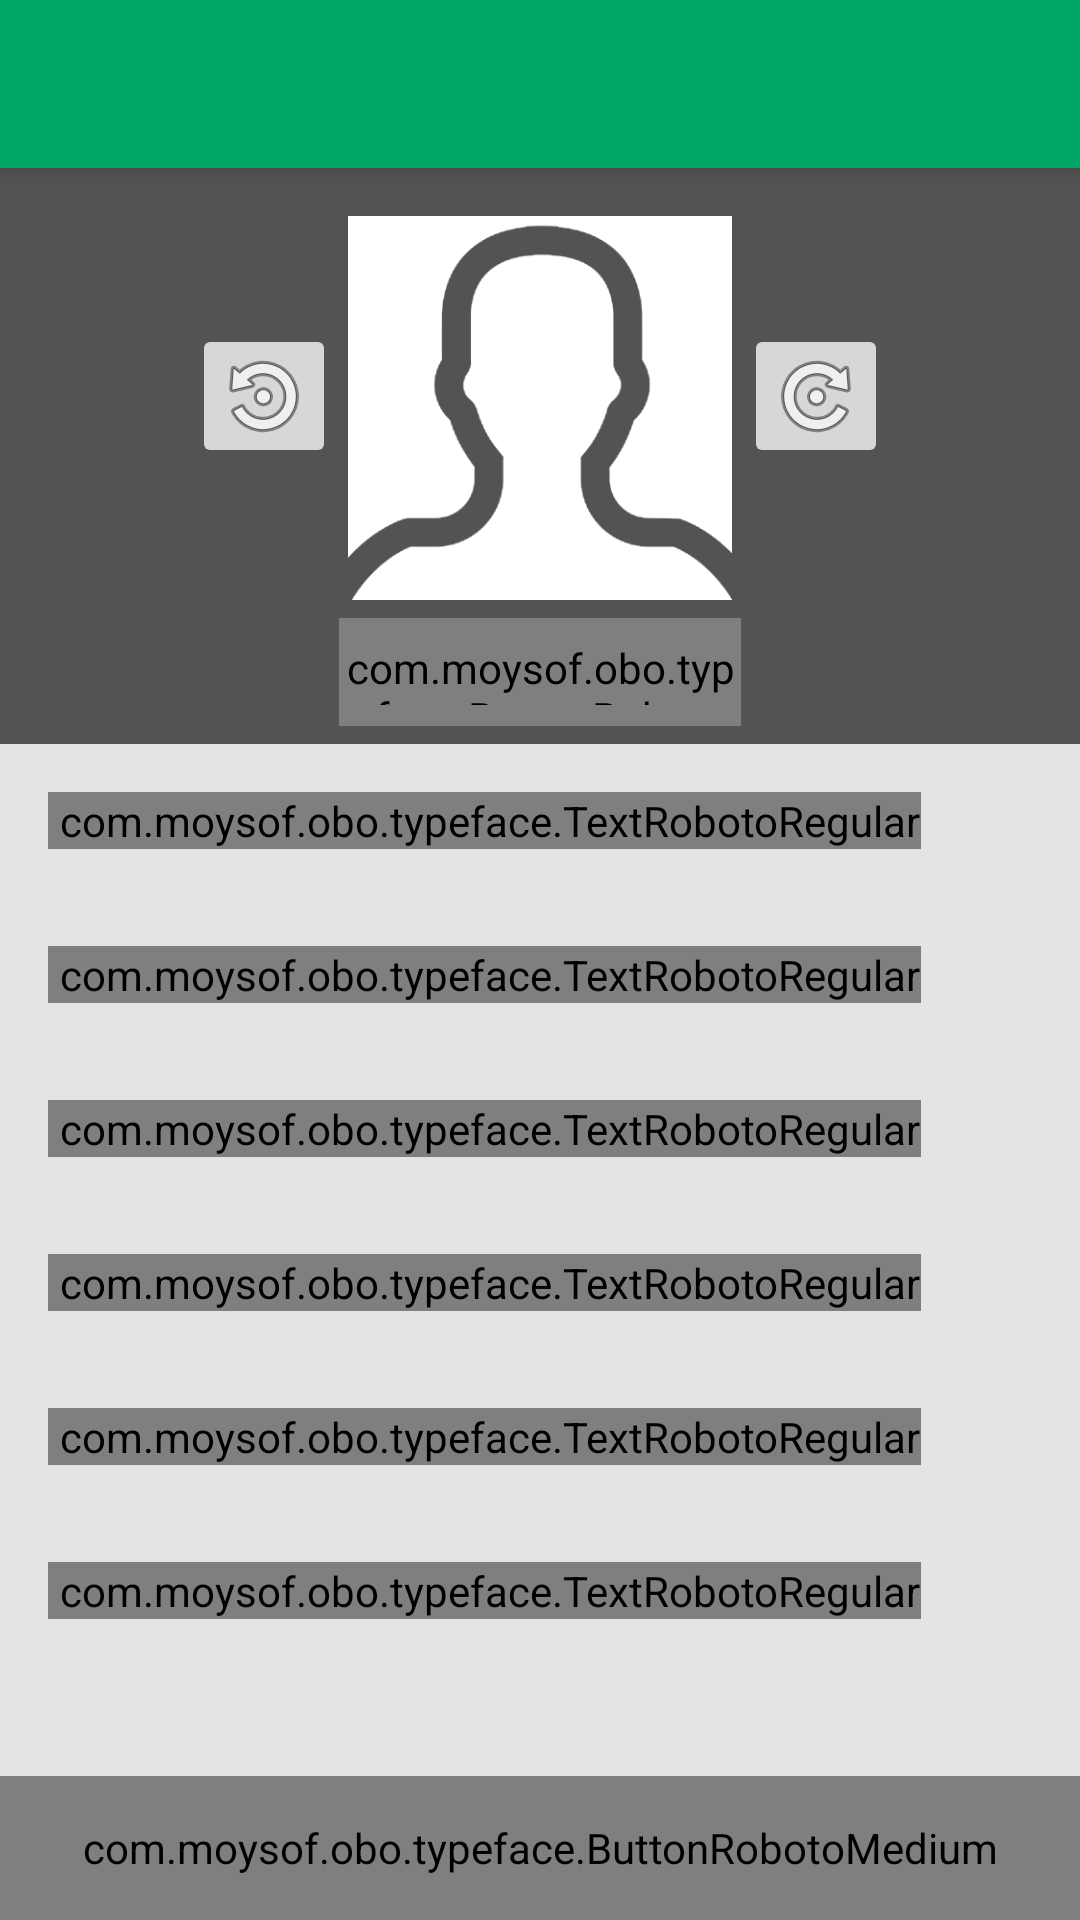

Named icons in this screenshot (1080×1920) and their centers, point (x, y):
rotate anticlockwise: point (264, 396)
rotate clockwise: point (816, 396)
